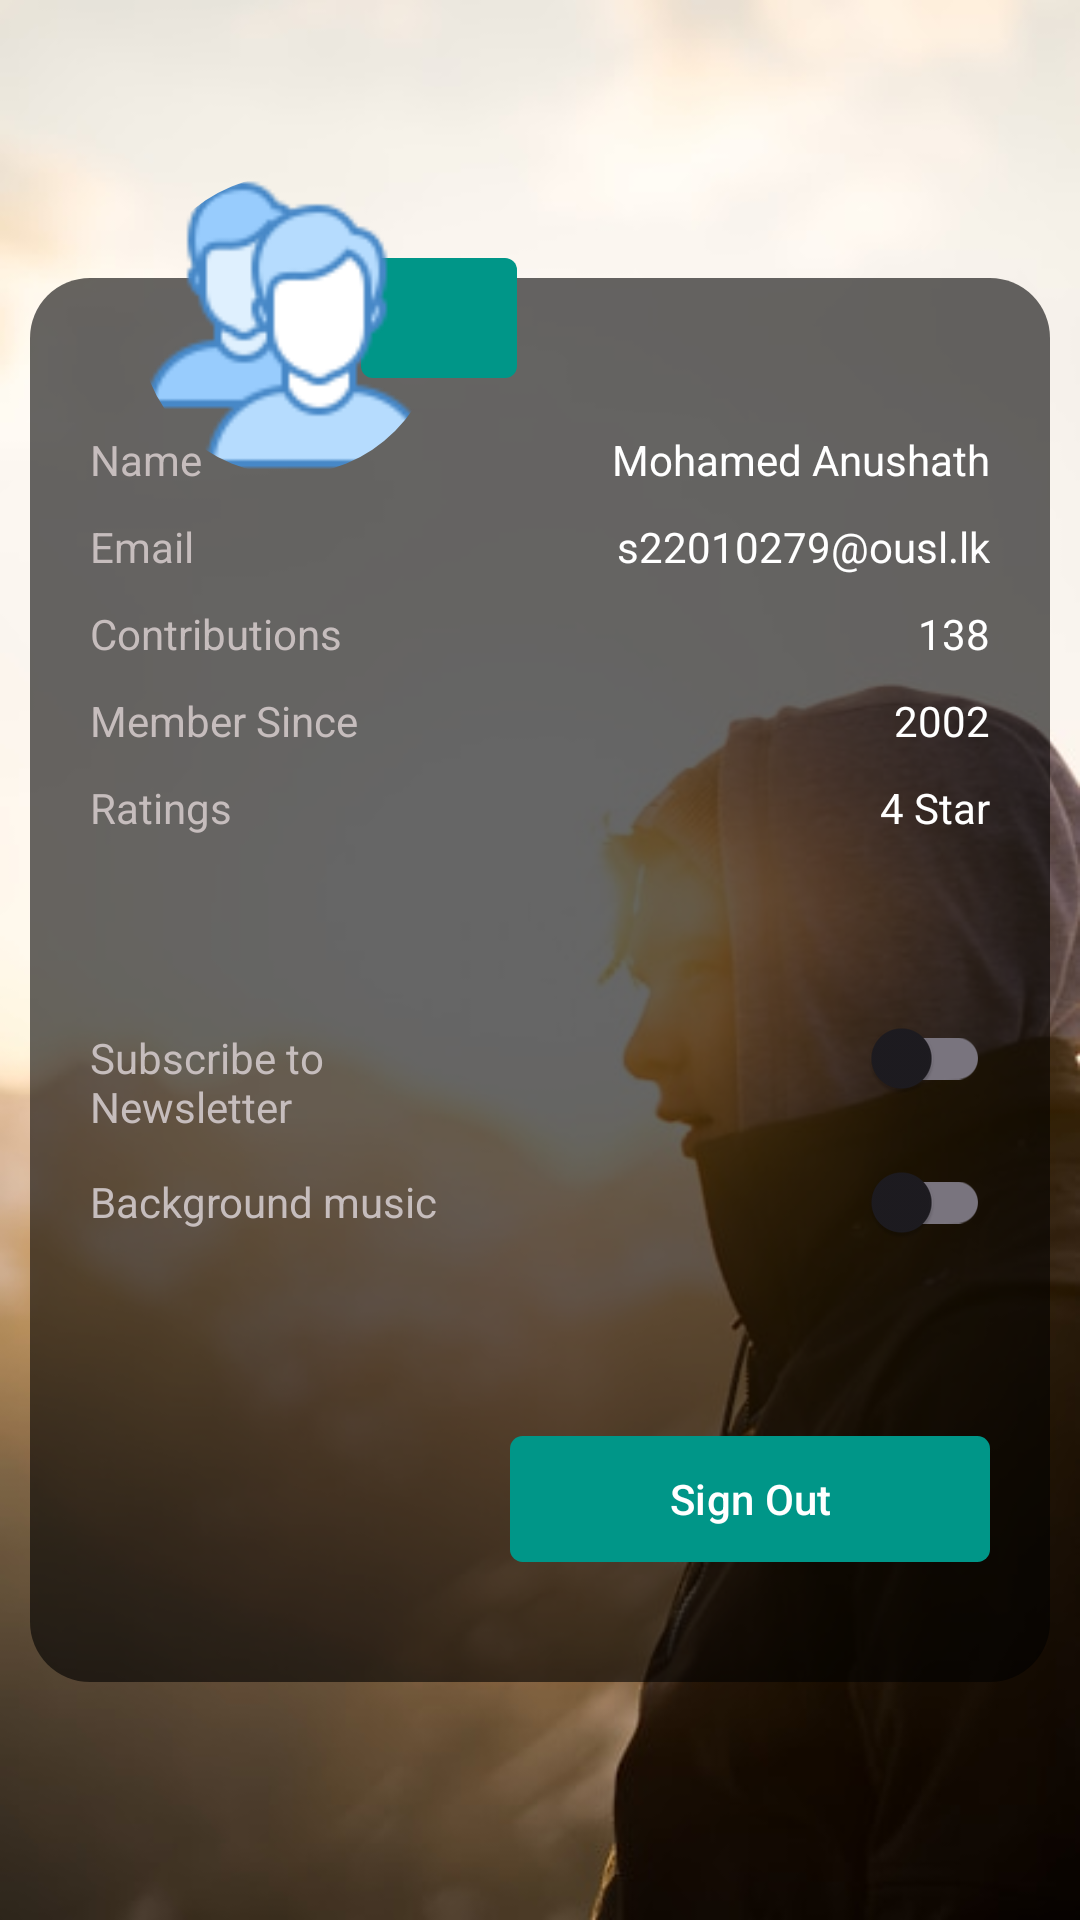

Where to tap for icons on this 1080 × 1920 app screen, as [x,y]:
user account: [289,325]
